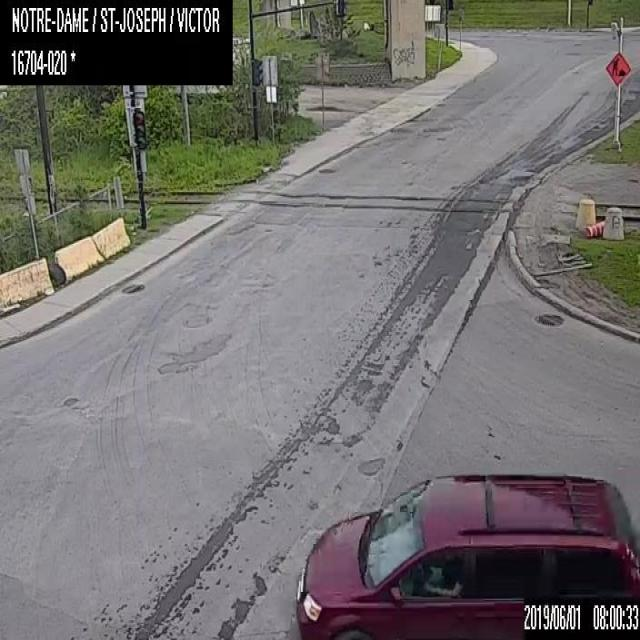construction: (604, 50, 631, 85), (584, 220, 604, 237)
vehicle: (294, 471, 639, 638), (521, 592, 639, 639)
